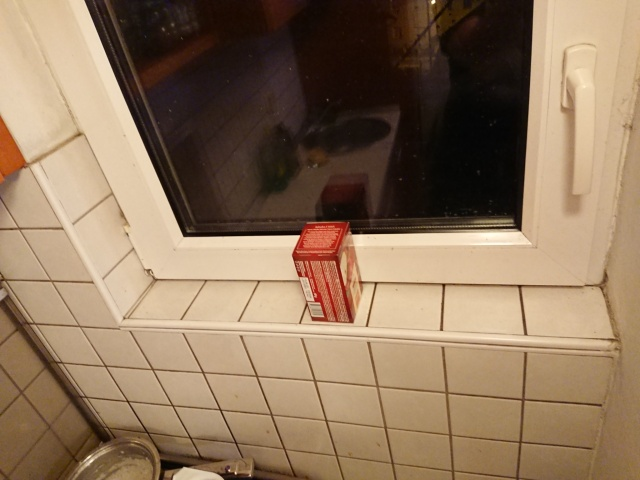Franck Apple Cinnamon Tea 60g: (289, 218, 366, 326)
